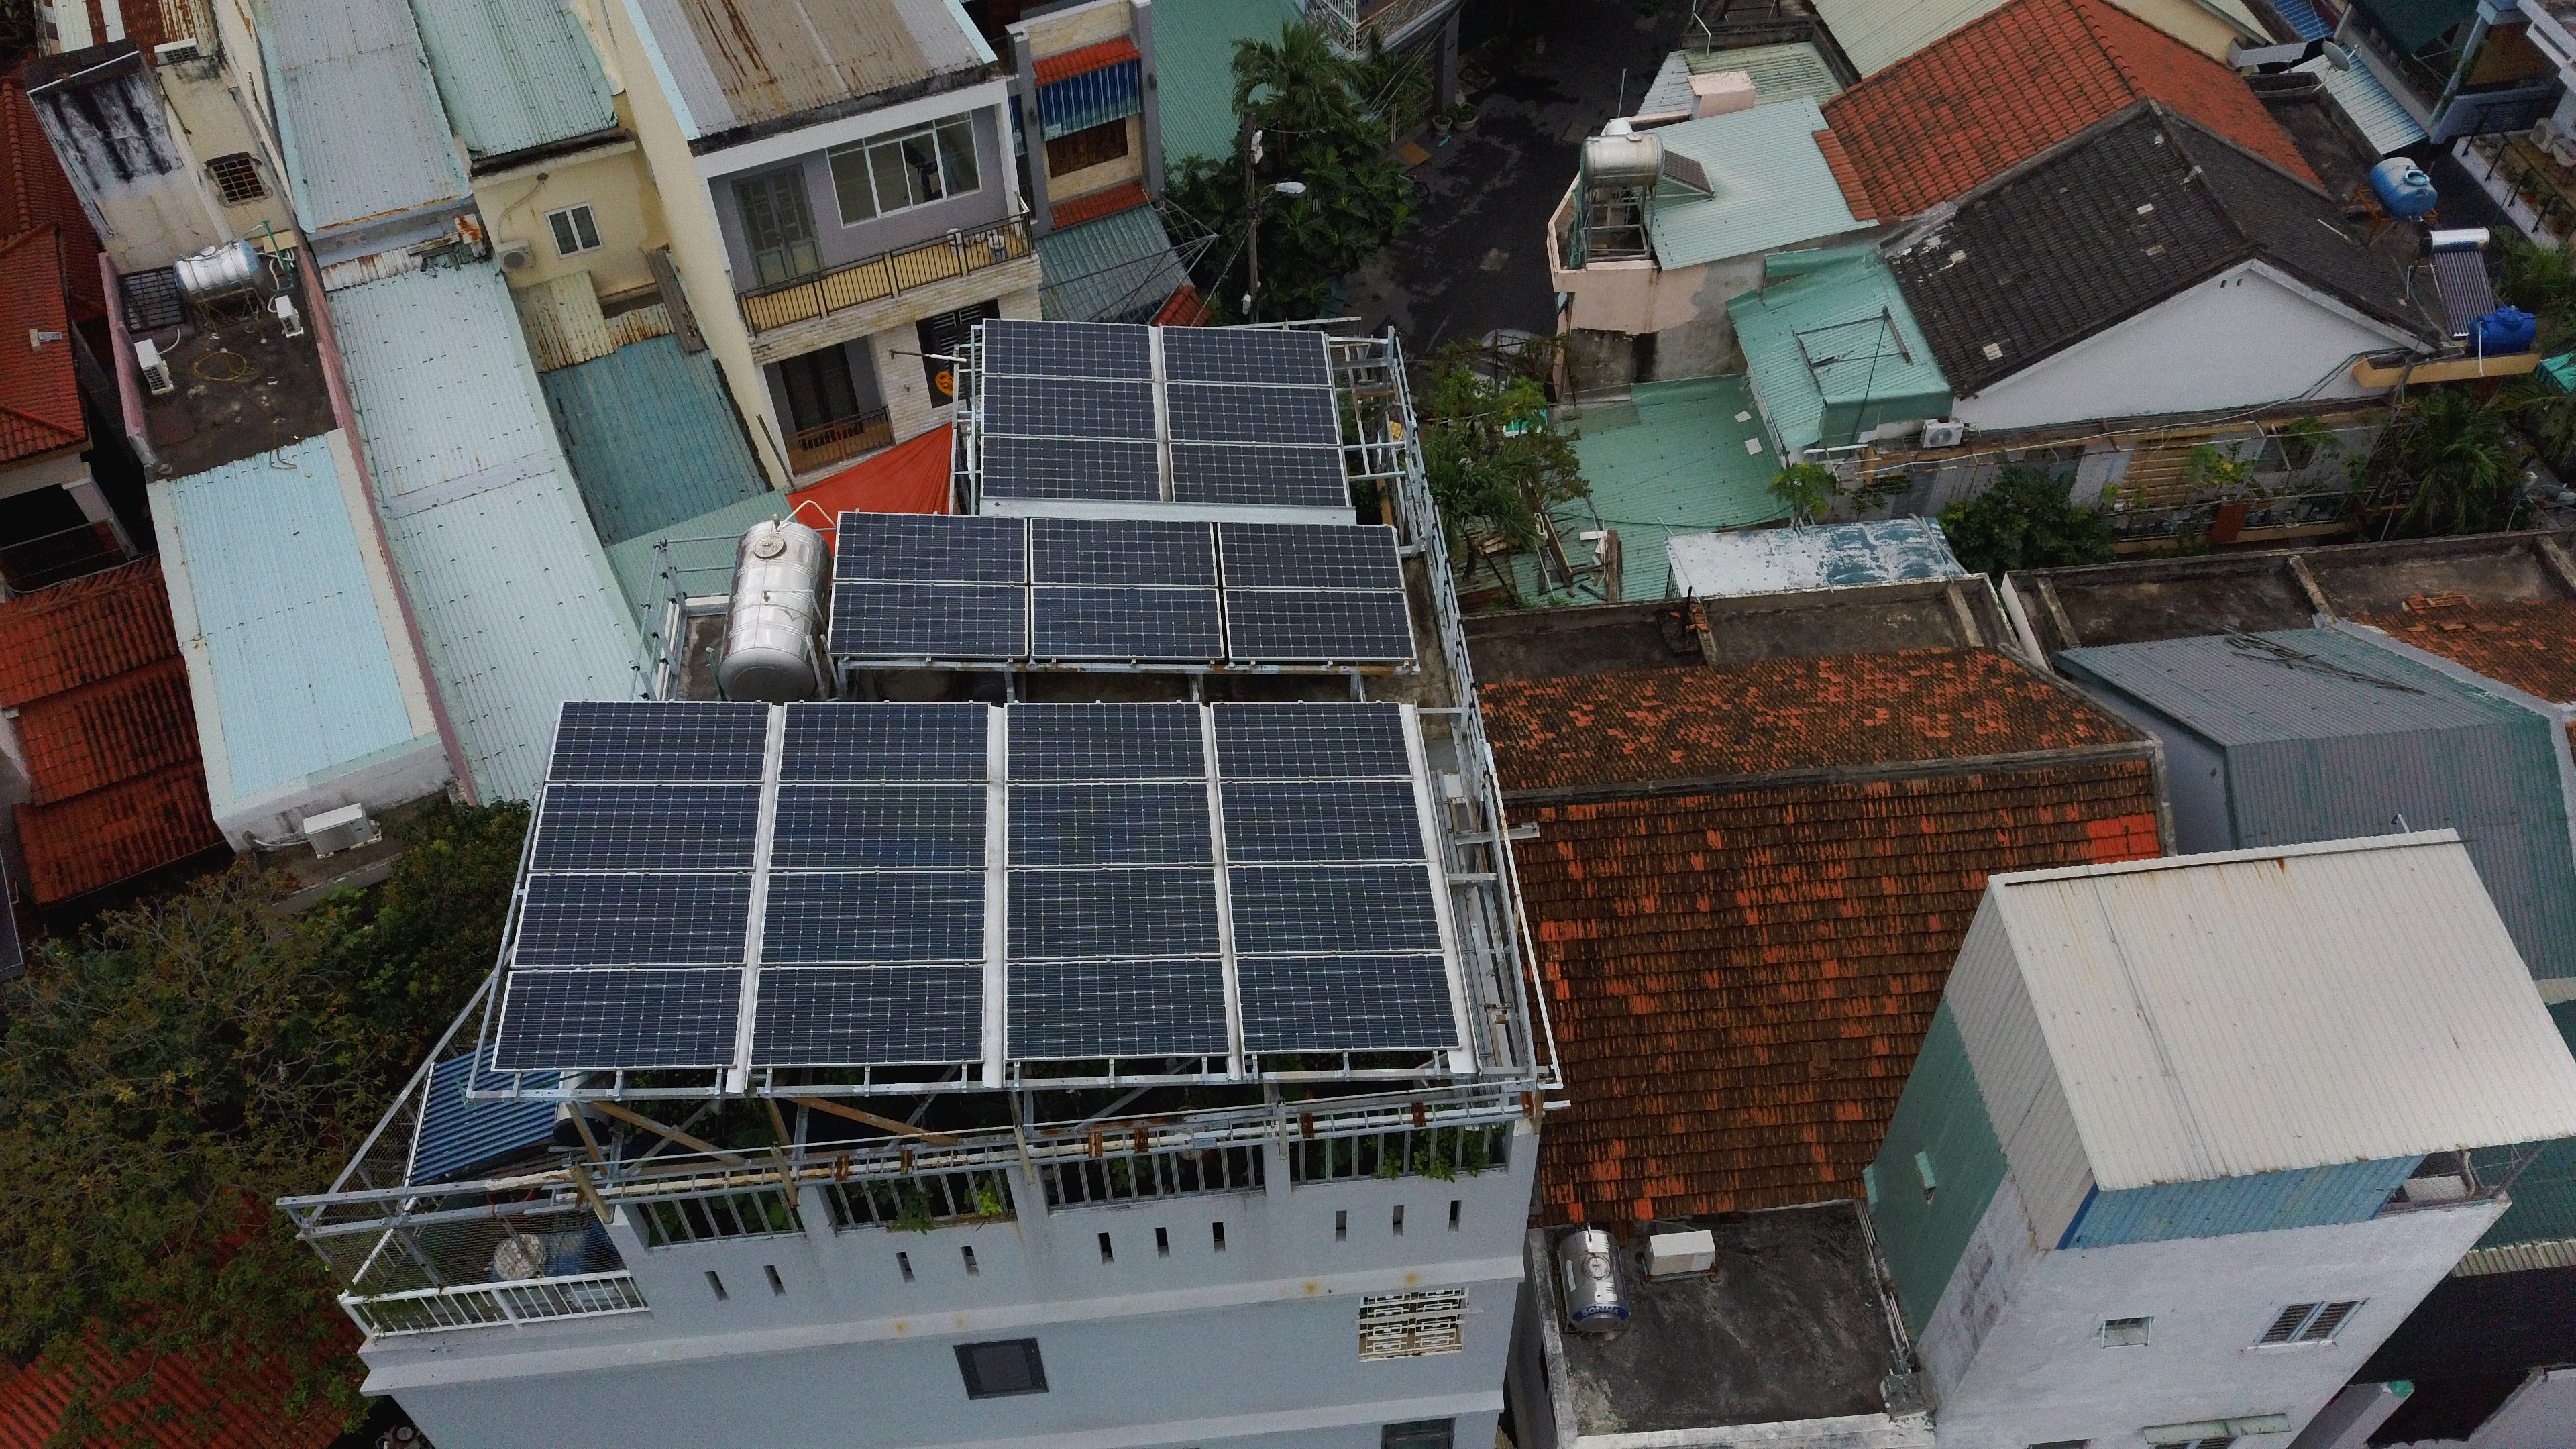solar: (488, 959, 747, 1079), (743, 959, 996, 1074), (502, 863, 759, 973), (752, 858, 994, 973), (994, 858, 1235, 973), (1221, 851, 1461, 966), (525, 768, 770, 879), (1231, 948, 1468, 1054), (1000, 954, 1237, 1060), (763, 771, 993, 879), (538, 692, 777, 791), (1212, 764, 1426, 874), (1000, 768, 1221, 874), (775, 694, 998, 794), (998, 694, 1221, 794), (1203, 694, 1426, 789), (1019, 577, 1233, 672), (817, 573, 1031, 669), (1214, 580, 1428, 674), (828, 506, 1031, 593), (1021, 510, 1224, 596), (1207, 513, 1410, 600), (1161, 432, 1362, 513), (968, 428, 1168, 510), (970, 366, 1169, 448), (1157, 373, 1357, 455), (1148, 317, 1339, 393), (968, 315, 1159, 391)
